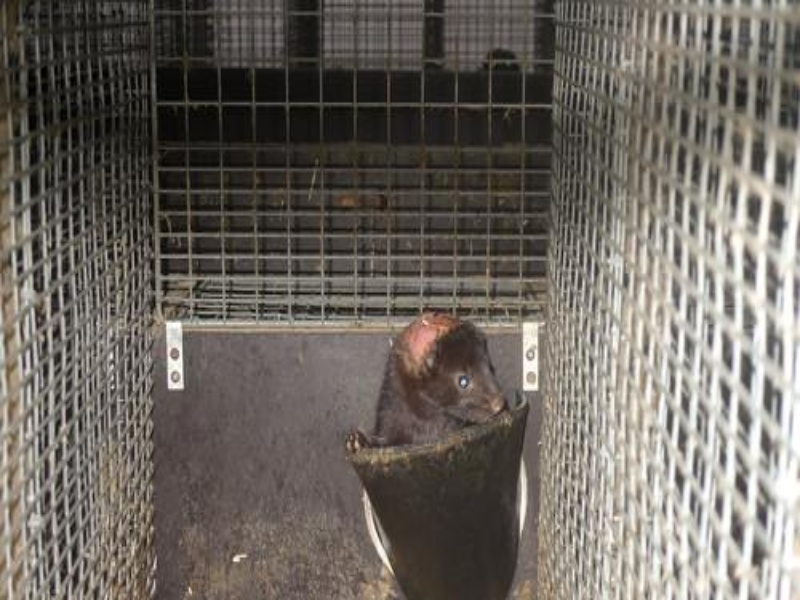minkish: (347, 308, 502, 456)
